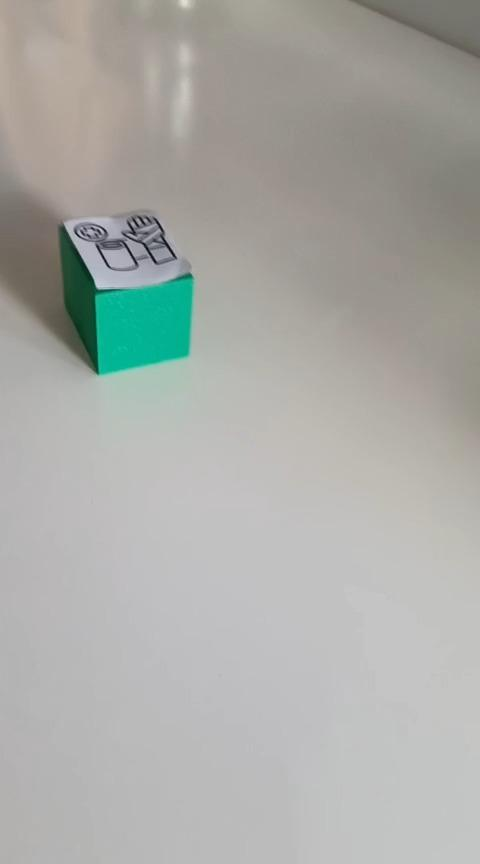Bandages: (57, 208, 194, 375)
